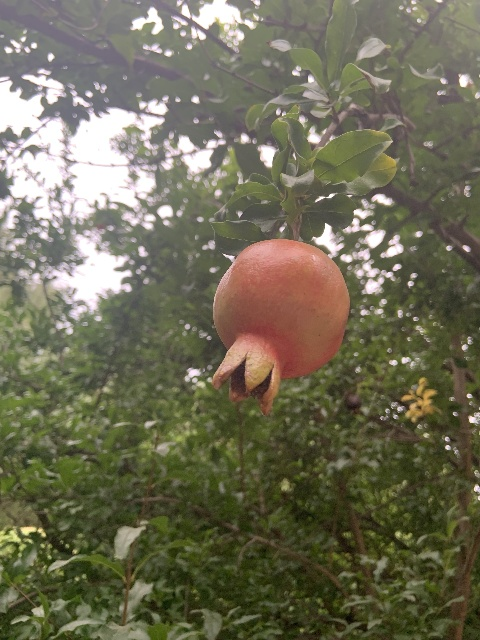ripe: (210, 238, 349, 416)
